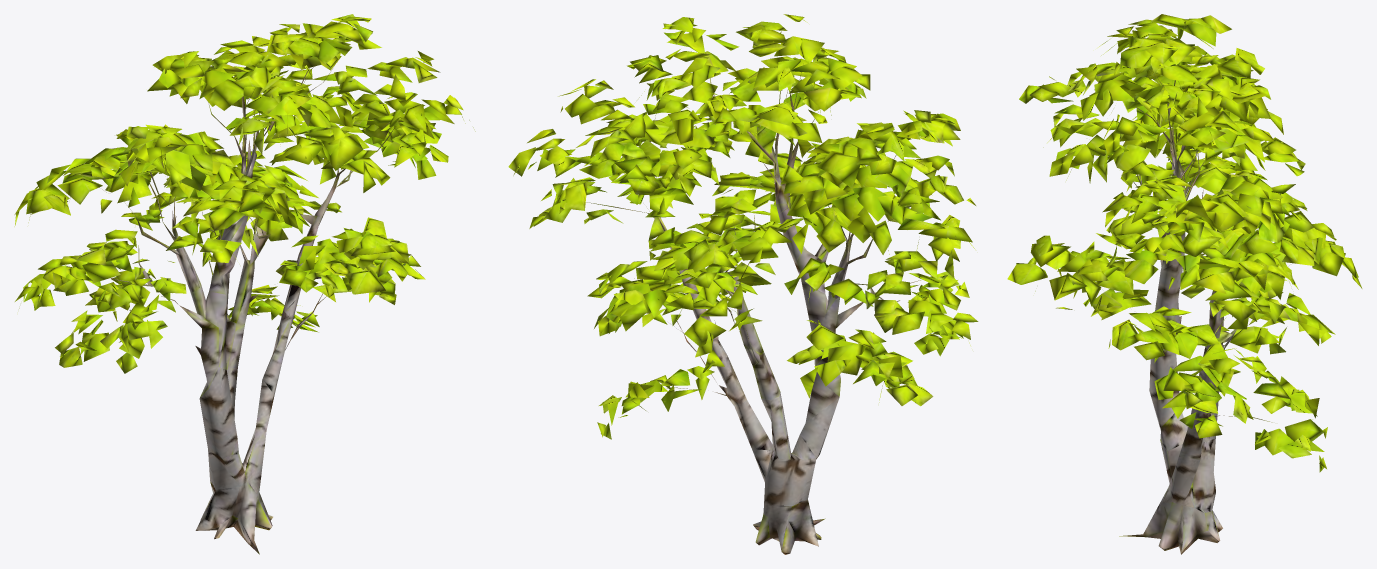
Rendered from birch_a_lo.glb.
3 views of the same model, side by side, from view 1: azimuth 30°, elevation 25°; view 2: azimuth 150°, elevation 25°; view 3: azimuth 270°, elevation 25° (orthographic). The views are drawn at different scales.
Visible parts, largest first — view 1: model; view 2: model; view 3: model.
Part boxes in pixels (x1,y1,x2,y2): model: (14, 14, 475, 554); model: (508, 14, 978, 554); model: (1007, 14, 1362, 554).
Bounding box in the file's own units: 0.9092 × 0.9473 × 0.585.
1 material, 1 textured.
